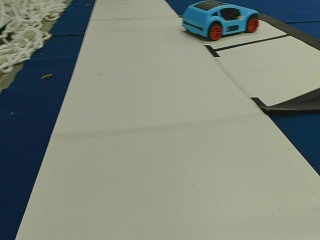car: (182, 2, 259, 40)
